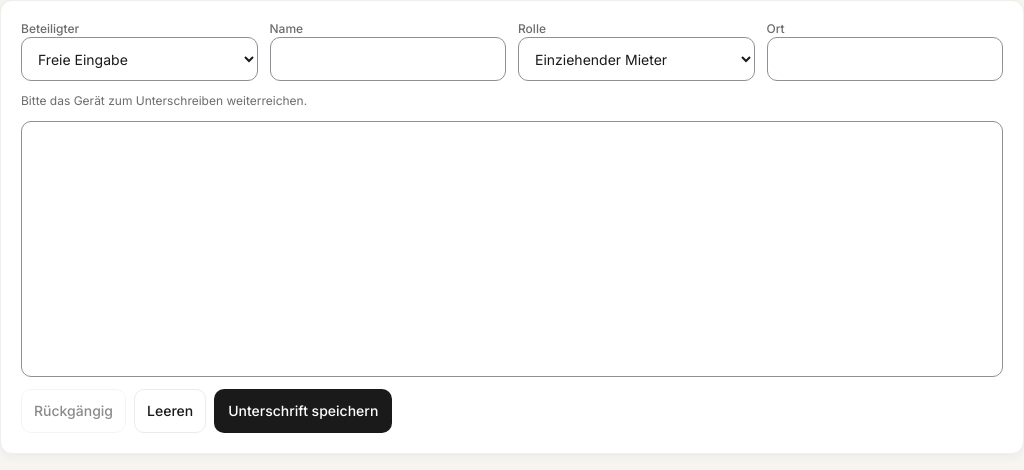
Test: SignaturePad › posts the PNG with signer name, role and participant
This screenshot has width=1024, height=470.
Select "Erika Muster" in the dropdown labelled "Beteiligter" at [139, 59], box x1=21 y1=37 x2=258 y2=81
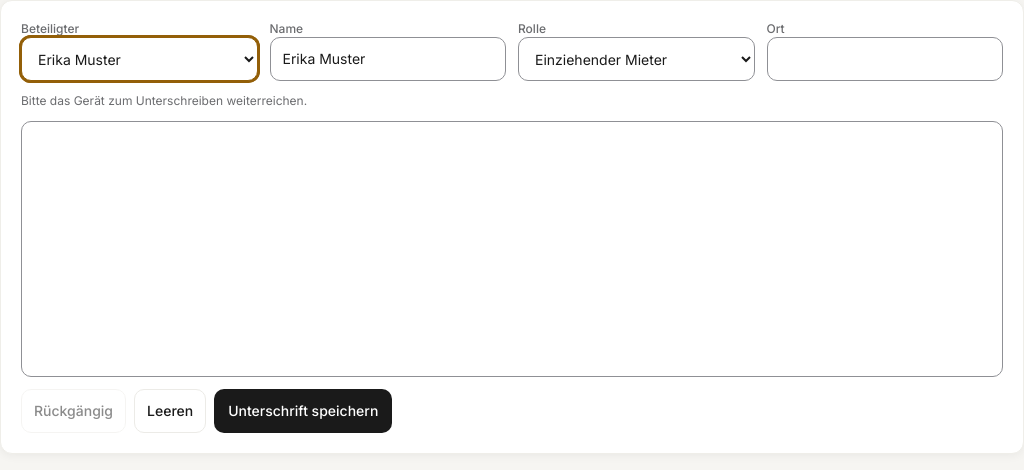
Result: the field labelled "Name" holds "Erika Muster" at x1=270 y1=37 x2=506 y2=81
Press the mouse on the drawing named "Unterschriftsfeld" at [512, 249], box x1=21 y1=121 x2=1003 y2=377
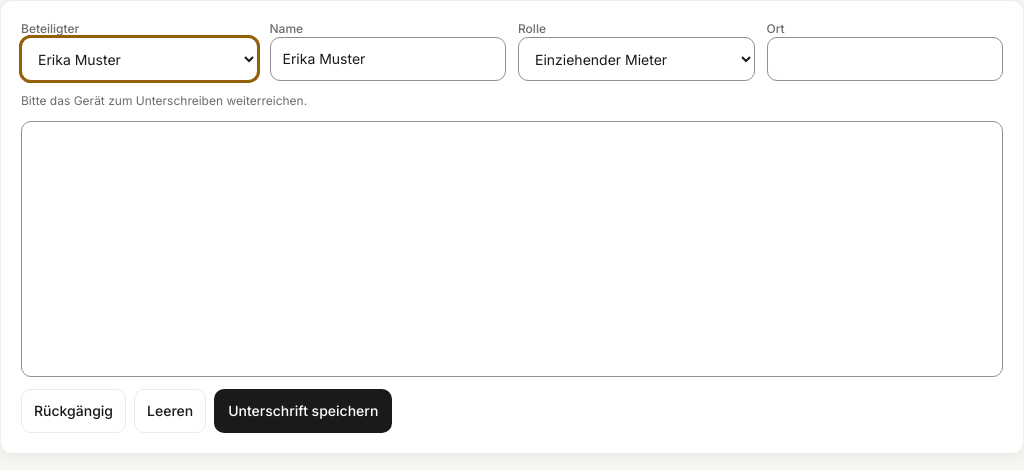
Click the button "Unterschrift speichern".
click(303, 411)  # box x1=214 y1=389 x2=392 y2=433
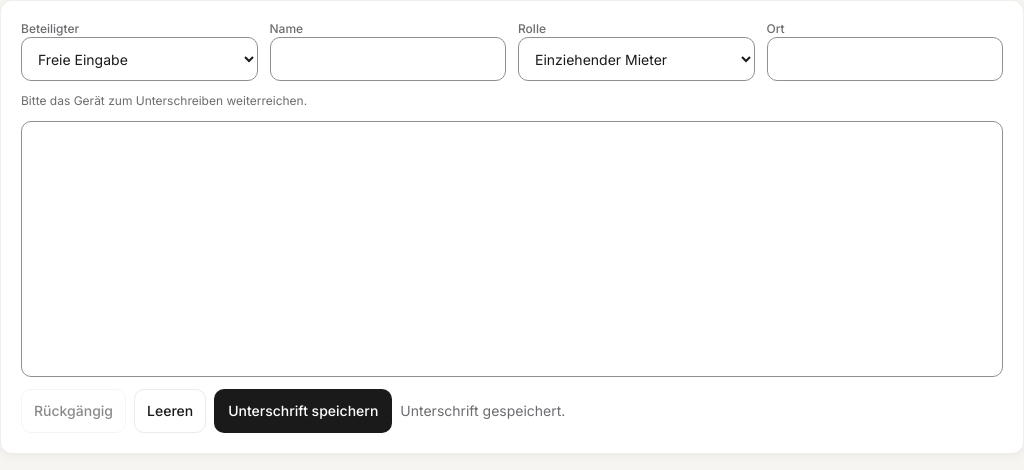
Result: the text "Unterschrift gespeichert." is shown at x1=400 y1=401 x2=565 y2=421
